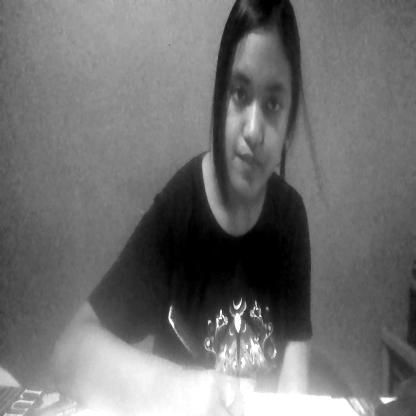Normal: (202, 10, 310, 201)
